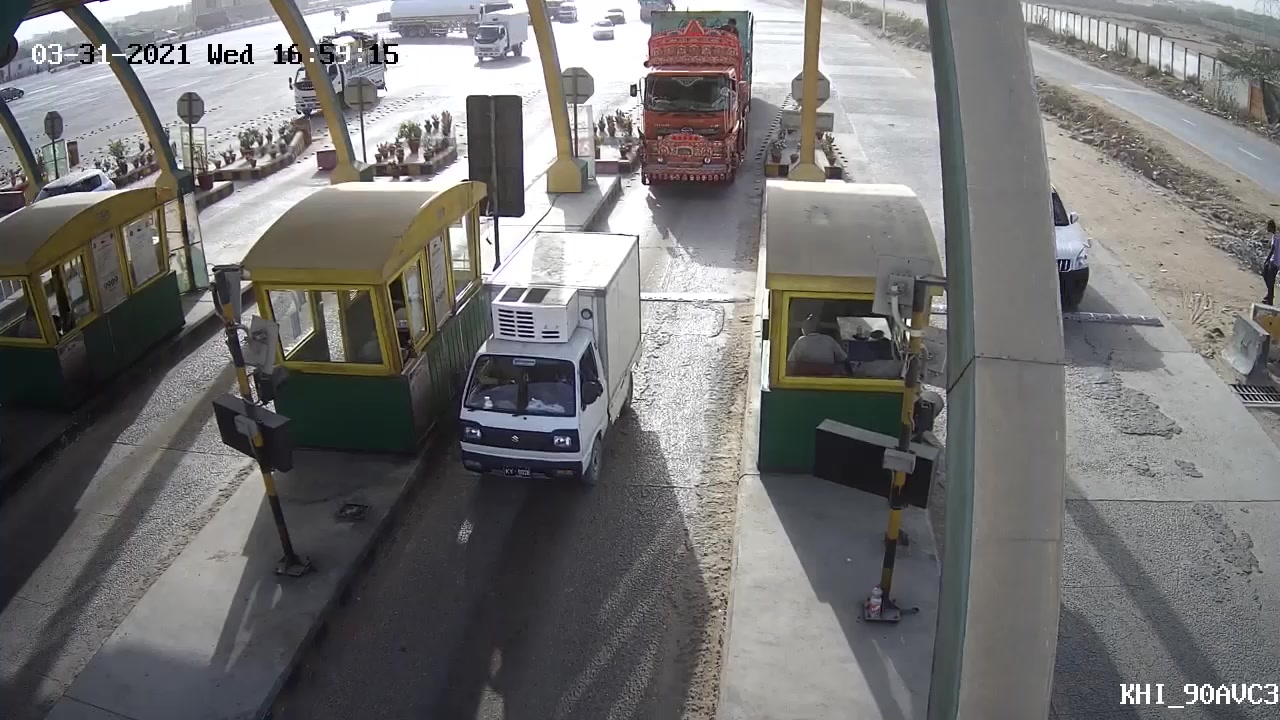F1: (451, 222, 647, 500)
F5: (631, 11, 756, 200)
